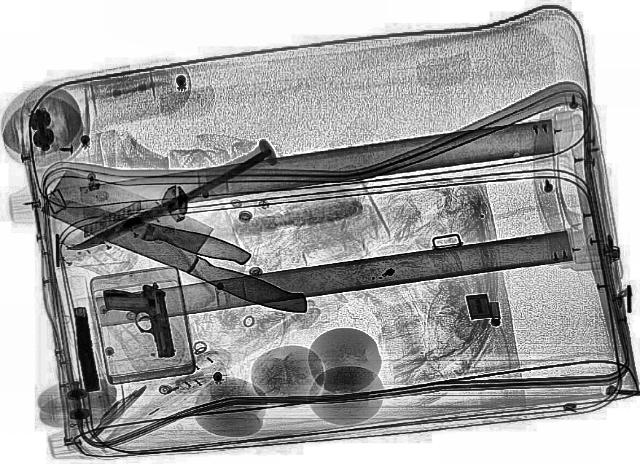Gun: (100, 280, 178, 362), (66, 306, 104, 392)
Knife: (27, 164, 339, 321), (61, 149, 279, 257), (32, 184, 254, 268)
